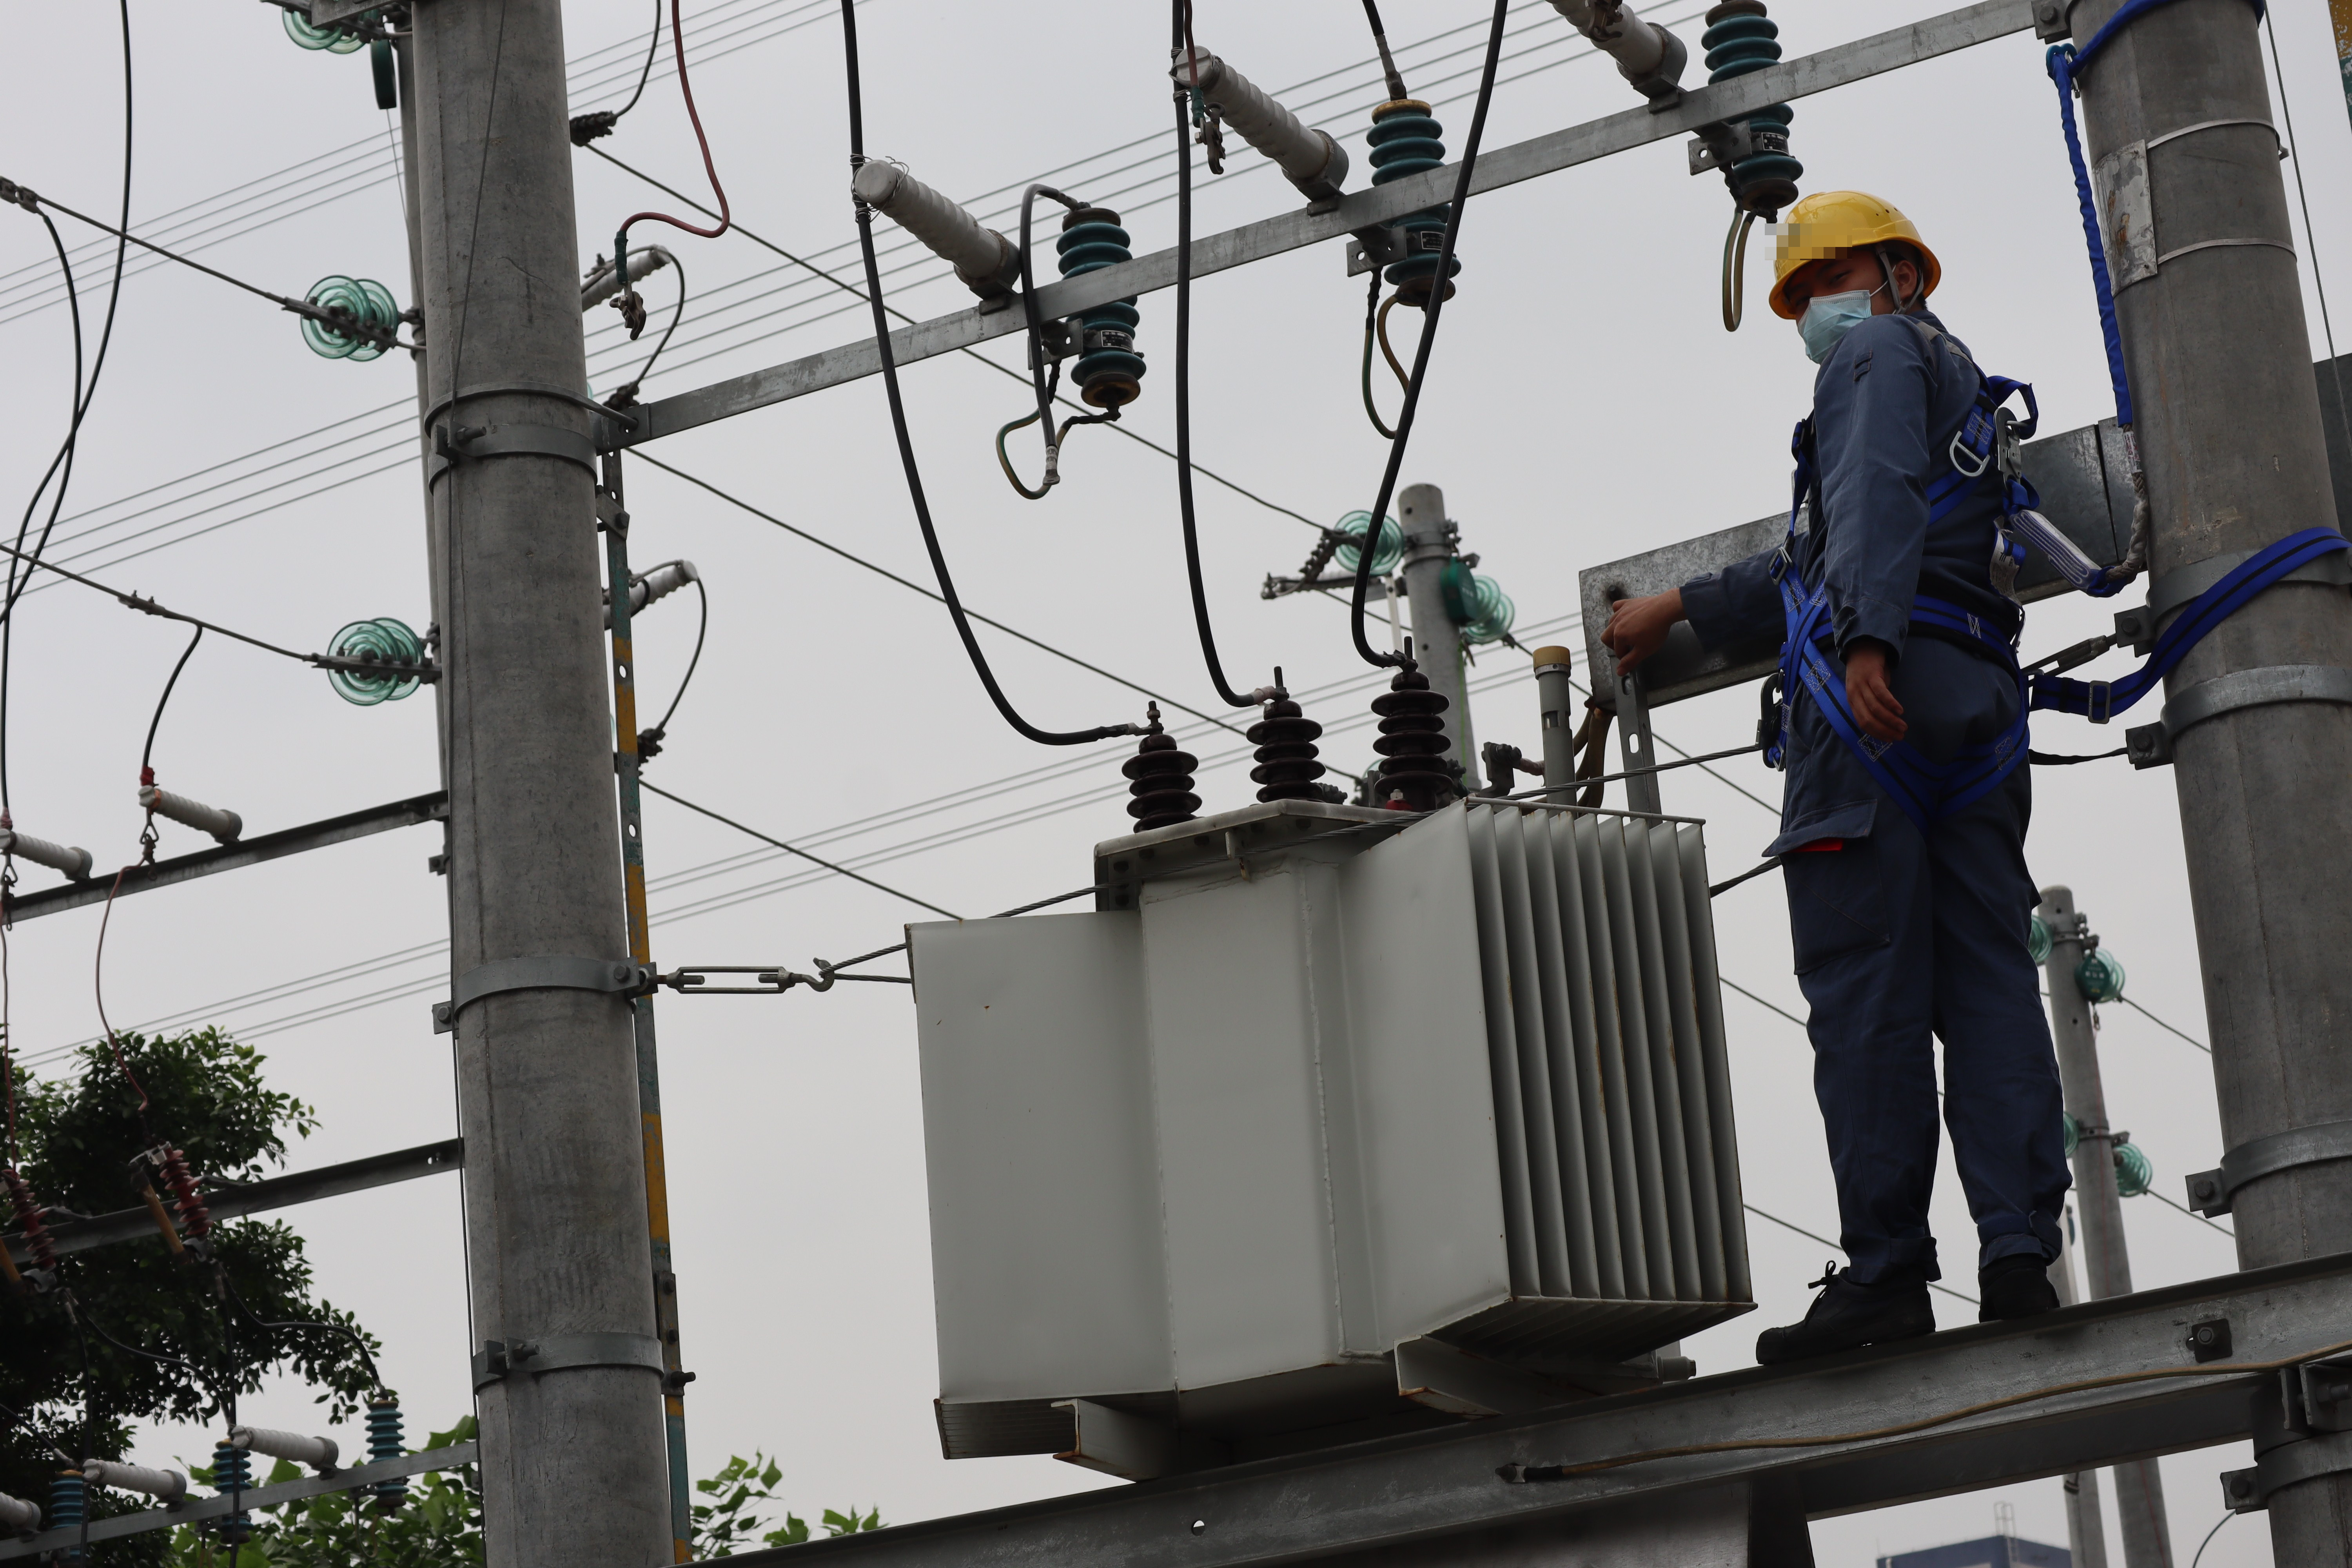downsuit: (1772, 669, 2078, 1269)
halt: (1768, 189, 1944, 333)
hand: (1606, 583, 1688, 657), (1844, 650, 1907, 741)
inear: (1877, 237, 1929, 318)
person: (1673, 186, 2082, 1363)
safebelt: (1739, 1, 2352, 806)
upsuit: (1784, 324, 2016, 630)
